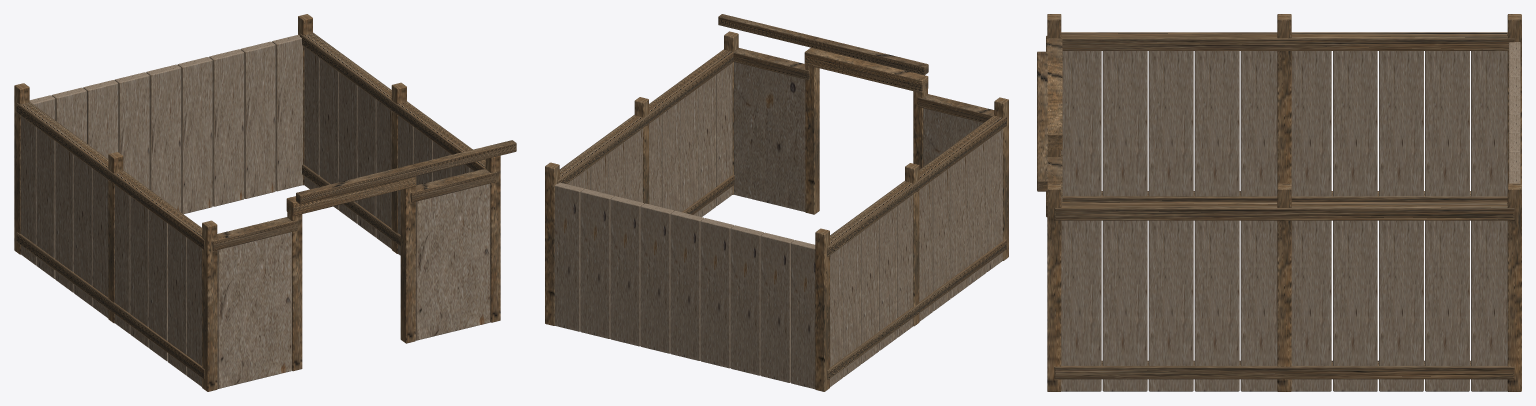
The model's file is walls.glb.
The picture shows the model from 3 angles, left to right: view 1: azimuth 30°, elevation 25°; view 2: azimuth 150°, elevation 25°; view 3: azimuth 270°, elevation 25°; orthographic projection. The views are drawn at different scales.
Visible parts, largest first — view 1: Front wall.001, Front wall, Back panel.007, Back panel.008, Back panel.006, Back panel.005, Back panel, Side rail.001, Side rail.003, Back panel.004, Sliding door rail, Corner upright.003 (+31 smaller); view 2: Front wall.001, Back panel.004, Back panel.002, Back panel.006, Back panel.008, Back panel.003, Back panel.005, Back panel.007, Back panel, Back panel.001, Side rail.001, Side rail.003 (+33 smaller); view 3: Side rail.003, Side rail.001, Side cardboard panel.016, Side cardboard panel.017, Side cardboard panel.018, Side cardboard panel.011, Side cardboard panel.012, Side cardboard panel.013, Side cardboard panel.006, Side cardboard panel.007, Side cardboard panel.008, Side cardboard panel.001 (+20 smaller).
Part boxes in pixels (left/top/right/bottom): Front wall.001: left=415, top=183, right=490, bottom=340; Front wall: left=217, top=232, right=291, bottom=389; Back panel.007: left=209, top=49, right=244, bottom=206; Back panel.008: left=240, top=41, right=275, bottom=198; Back panel.006: left=177, top=57, right=212, bottom=214; Back panel.005: left=146, top=64, right=181, bottom=212; Back panel: left=272, top=34, right=302, bottom=191; Side rail.001: left=16, top=102, right=204, bottom=249; Side rail.003: left=300, top=32, right=486, bottom=171; Back panel.004: left=114, top=72, right=149, bottom=188; Sliding door rail: left=296, top=140, right=516, bottom=204; Corner upright.003: left=202, top=220, right=217, bottom=391; Front wall.001: left=734, top=62, right=805, bottom=211; Back panel.004: left=700, top=218, right=734, bottom=368; Back panel.002: left=760, top=232, right=794, bottom=382; Back panel.006: left=640, top=203, right=673, bottom=353; Back panel.008: left=580, top=188, right=613, bottom=338; Back panel.003: left=730, top=225, right=763, bottom=375; Back panel.005: left=670, top=210, right=703, bottom=360; Back panel.007: left=610, top=196, right=643, bottom=346; Back panel: left=554, top=182, right=583, bottom=331; Back panel.001: left=791, top=240, right=815, bottom=389; Side rail.001: left=827, top=115, right=1006, bottom=256; Side rail.003: left=557, top=49, right=735, bottom=183; Side rail.003: left=1054, top=202, right=1514, bottom=220; Side rail.001: left=1061, top=32, right=1514, bottom=50; Side cardboard panel.016: left=1194, top=220, right=1239, bottom=391; Side cardboard panel.017: left=1148, top=220, right=1193, bottom=391; Side cardboard panel.018: left=1102, top=220, right=1147, bottom=391; Side cardboard panel.011: left=1425, top=220, right=1469, bottom=391; Side cardboard panel.012: left=1379, top=220, right=1423, bottom=391; Side cardboard panel.013: left=1333, top=220, right=1377, bottom=391; Side cardboard panel.006: left=1194, top=51, right=1239, bottom=196; Side cardboard panel.007: left=1148, top=51, right=1193, bottom=196; Side cardboard panel.008: left=1102, top=51, right=1147, bottom=196; Side cardboard panel.001: left=1425, top=51, right=1469, bottom=196.
Bounding box in the file's own units: 3.67 × 2.04 × 4.11.
Materials: 3 (3 with a texture image).
